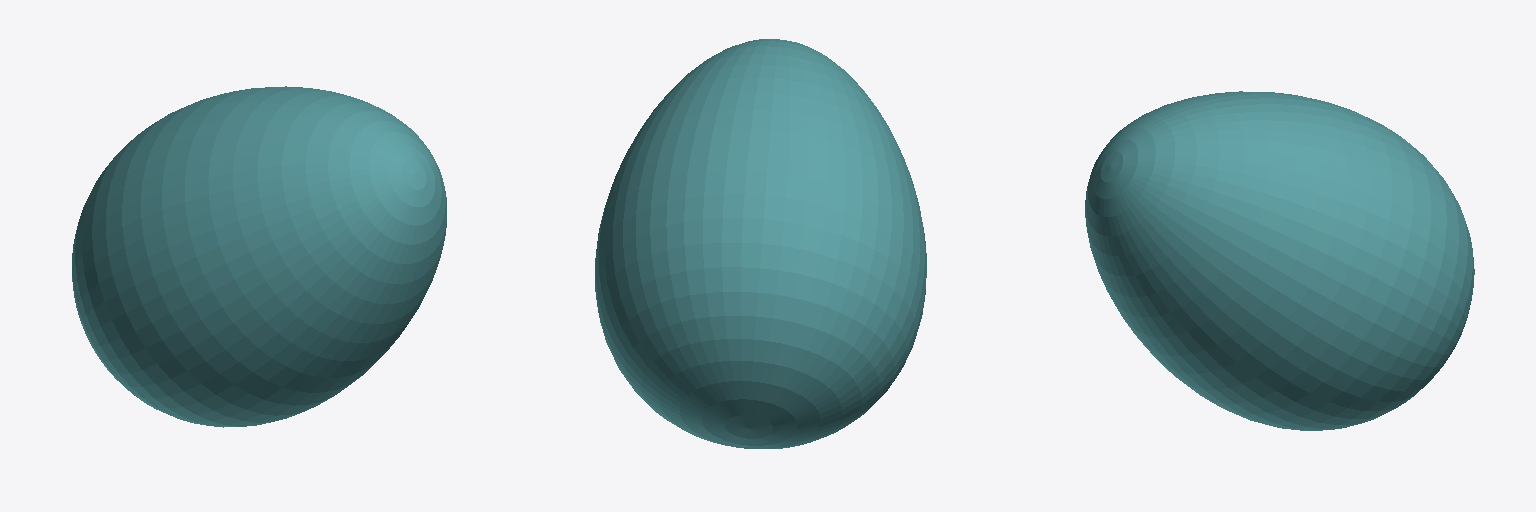
Rendered from ovo.obj.
The picture shows the model from 3 angles: view 1: azimuth 30°, elevation 25°; view 2: azimuth 150°, elevation 25°; view 3: azimuth 270°, elevation 25°; orthographic projection.
Visible parts, largest first — view 1: ovo; view 2: ovo; view 3: ovo.
Boxes of the visible parts, x1=… form: ovo: x1=72, y1=86, x2=446, y2=427; ovo: x1=595, y1=39, x2=926, y2=448; ovo: x1=1085, y1=91, x2=1474, y2=430.
Size of the model in its own units: 42.4 by 45.26 by 48.4.